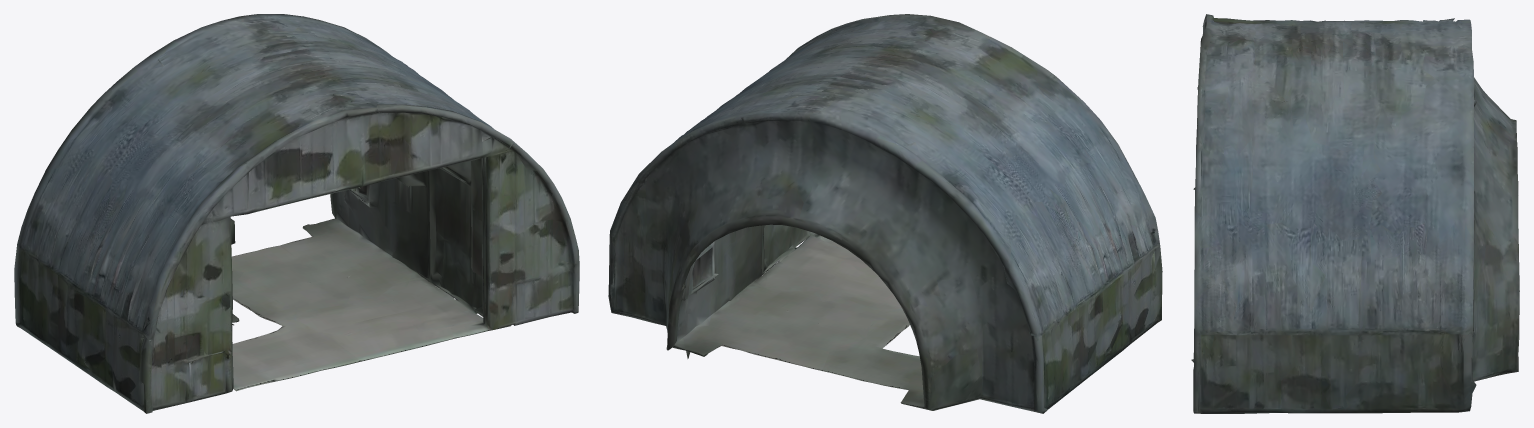
Rendered from hangar.glb.
3 views of the same model, side by side, from view 1: azimuth 30°, elevation 25°; view 2: azimuth 150°, elevation 25°; view 3: azimuth 270°, elevation 25° (orthographic). The views are drawn at different scales.
Visible parts, largest first — view 1: tripo_node_ed5b5718-d995-46ff-8191-a1fb9564f46d; view 2: tripo_node_ed5b5718-d995-46ff-8191-a1fb9564f46d; view 3: tripo_node_ed5b5718-d995-46ff-8191-a1fb9564f46d.
Boxes of the visible parts, x1=… form: tripo_node_ed5b5718-d995-46ff-8191-a1fb9564f46d: x1=14, y1=14, x2=579, y2=413; tripo_node_ed5b5718-d995-46ff-8191-a1fb9564f46d: x1=608, y1=14, x2=1162, y2=413; tripo_node_ed5b5718-d995-46ff-8191-a1fb9564f46d: x1=1191, y1=14, x2=1519, y2=413.
Bounding box in the file's own units: 1 × 0.5708 × 0.622.
Materials: 1 (1 with a texture image).
